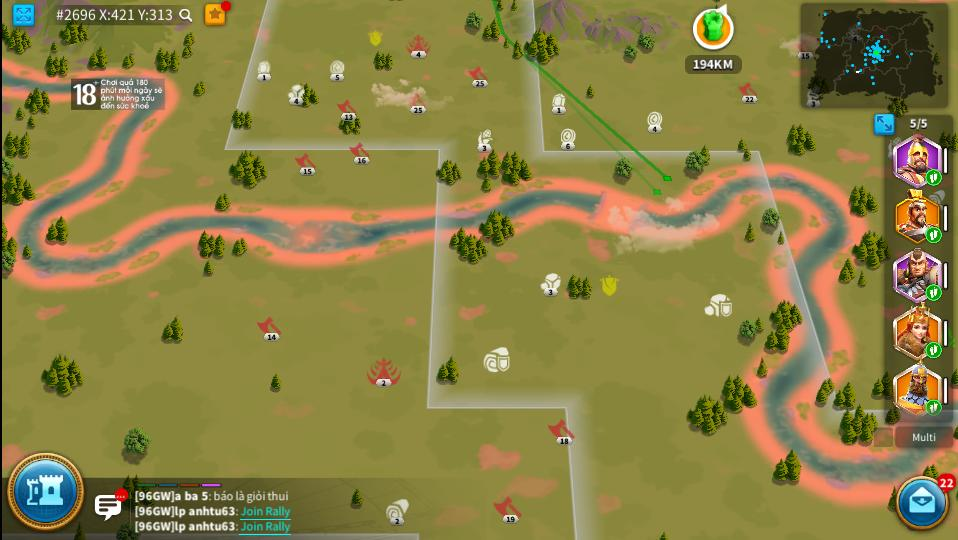gem-z-out: (550, 93, 567, 117), (256, 59, 273, 81)
march_marching: (925, 228, 942, 242), (926, 170, 940, 185), (927, 400, 941, 415), (926, 285, 940, 299), (928, 343, 940, 357)
